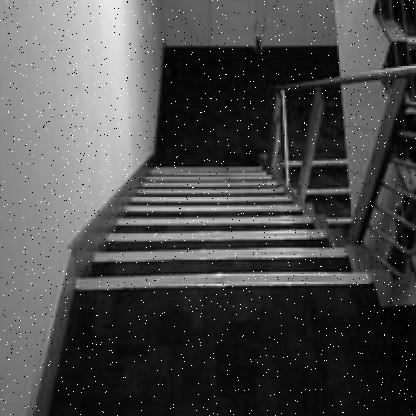stair_down: (56, 203, 378, 319)
